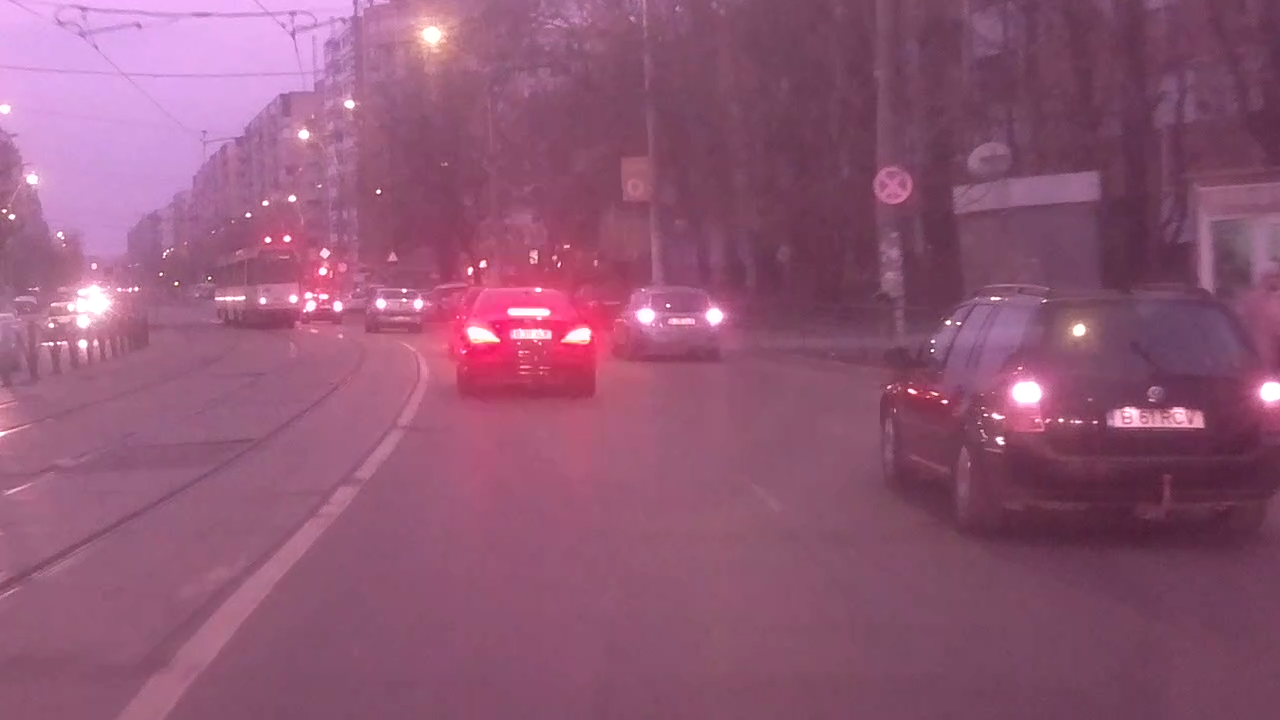license-plate: (1102, 405, 1208, 431)
